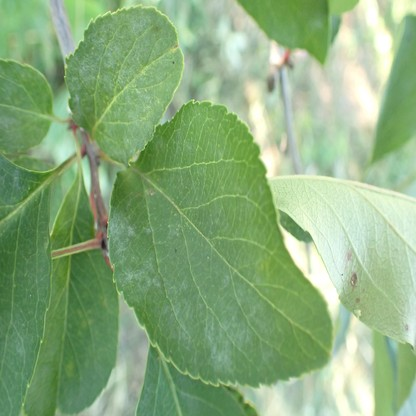powdery_mildew: (106, 106, 258, 387), (65, 4, 183, 167), (0, 154, 51, 413), (137, 352, 199, 416), (0, 72, 34, 148)
scab: (77, 308, 91, 335), (65, 361, 74, 380)
